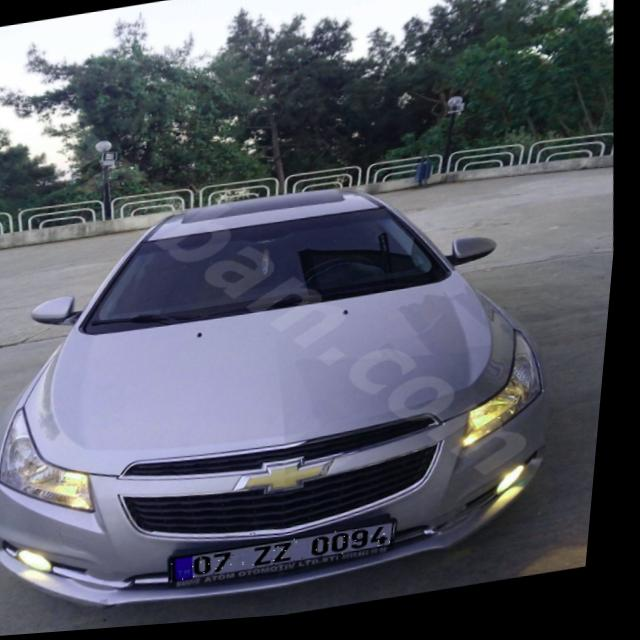license_plate: (179, 529, 405, 585)
